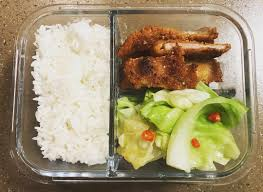rice: (34, 26, 110, 164)
